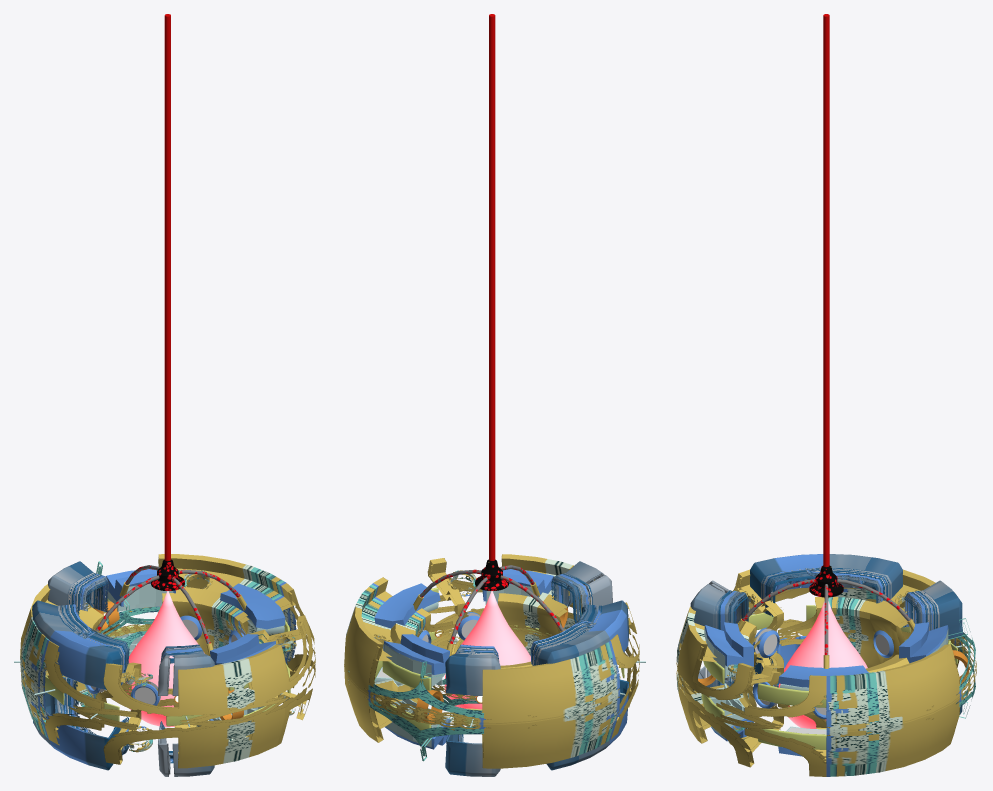
Rendered from base_fusee_v1.fbx.
3 views of the same model, side by side, from view 1: azimuth 30°, elevation 25°; view 2: azimuth 150°, elevation 25°; view 3: azimuth 270°, elevation 25° (orthographic).
Visible parts, largest first — view 1: base_ground, base_dortoir, base_labo_etageres_cadres, lazer, noyau, base_aspirateur_noyau, base_fenetres, base_tables; view 2: base_ground, base_dortoir, base_labo_etageres_cadres, lazer, noyau, base_aspirateur_noyau, base_labo_tables; view 3: base_ground, base_dortoir, base_labo_etageres_cadres, lazer, noyau, base_labo_tables, base_aspirateur_noyau, base_fenetres, base_tables.
Part boxes in pixels (left/top/right/bottom): base_ground: left=20, top=554, right=315, bottom=768; base_dortoir: left=32, top=561, right=214, bottom=776; base_labo_etageres_cadres: left=106, top=569, right=285, bottom=720; lazer: left=164, top=14, right=170, bottom=561; noyau: left=125, top=591, right=204, bottom=727; base_aspirateur_noyau: left=94, top=559, right=246, bottom=656; base_fenetres: left=86, top=615, right=247, bottom=705; base_tables: left=14, top=661, right=202, bottom=727; base_ground: left=344, top=554, right=639, bottom=768; base_dortoir: left=445, top=561, right=629, bottom=776; base_labo_etageres_cadres: left=374, top=569, right=553, bottom=749; lazer: left=489, top=14, right=495, bottom=560; noyau: left=444, top=591, right=530, bottom=709; base_aspirateur_noyau: left=413, top=559, right=565, bottom=656; base_labo_tables: left=375, top=587, right=551, bottom=730; base_ground: left=676, top=569, right=976, bottom=776; base_dortoir: left=690, top=554, right=963, bottom=714; base_labo_etageres_cadres: left=704, top=622, right=948, bottom=756; lazer: left=823, top=14, right=829, bottom=566; noyau: left=778, top=601, right=867, bottom=728; base_labo_tables: left=701, top=640, right=950, bottom=749; base_aspirateur_noyau: left=738, top=565, right=914, bottom=668; base_fenetres: left=753, top=627, right=893, bottom=719; base_tables: left=748, top=605, right=970, bottom=663.
Bounding box in the file's own units: 3226 × 8339 × 3222.
